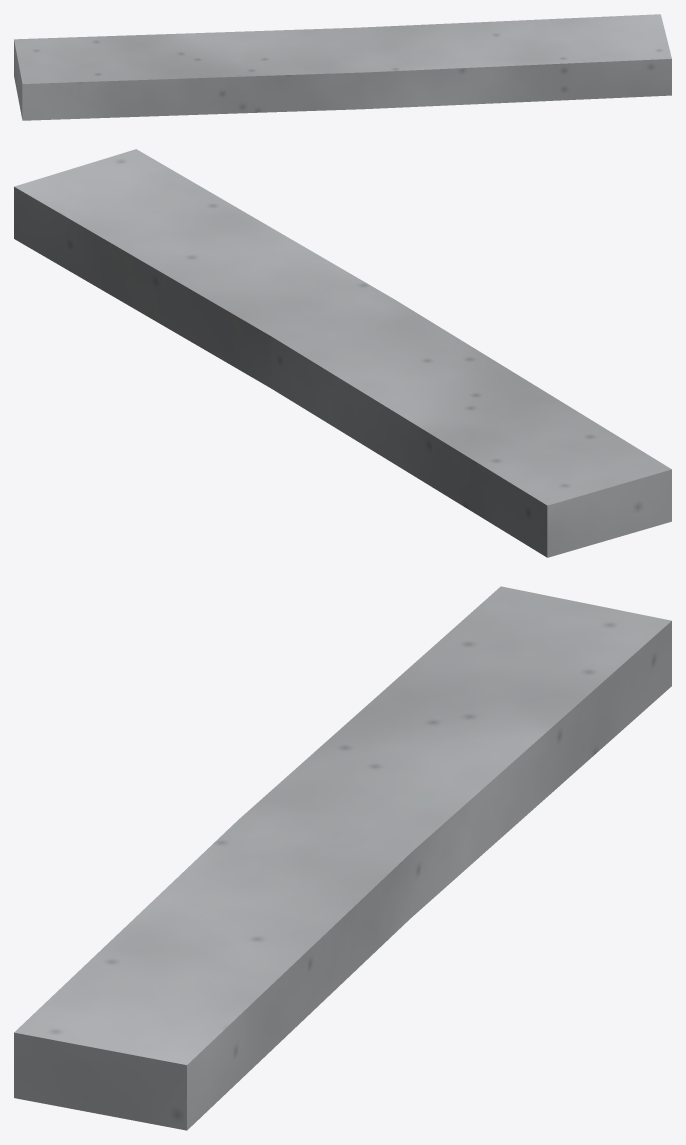
Rendered from qishi-z6-downstream.glb.
The picture shows the model from 3 angles, top to bottom: view 1: azimuth 30°, elevation 25°; view 2: azimuth 150°, elevation 25°; view 3: azimuth 270°, elevation 25°; orthographic projection. The views are drawn at different scales.
Visible parts, largest first — view 1: QIS_WAY_apron_dn_01; view 2: QIS_WAY_apron_dn_01; view 3: QIS_WAY_apron_dn_01.
Boxes of the visible parts, box(x1,y1,x2,y2) form: QIS_WAY_apron_dn_01: box(14, 14, 671, 120); QIS_WAY_apron_dn_01: box(14, 149, 671, 557); QIS_WAY_apron_dn_01: box(14, 586, 671, 1130).
Bounding box in the file's own units: 538 × 34.3 × 313.
1 material, 1 textured.
